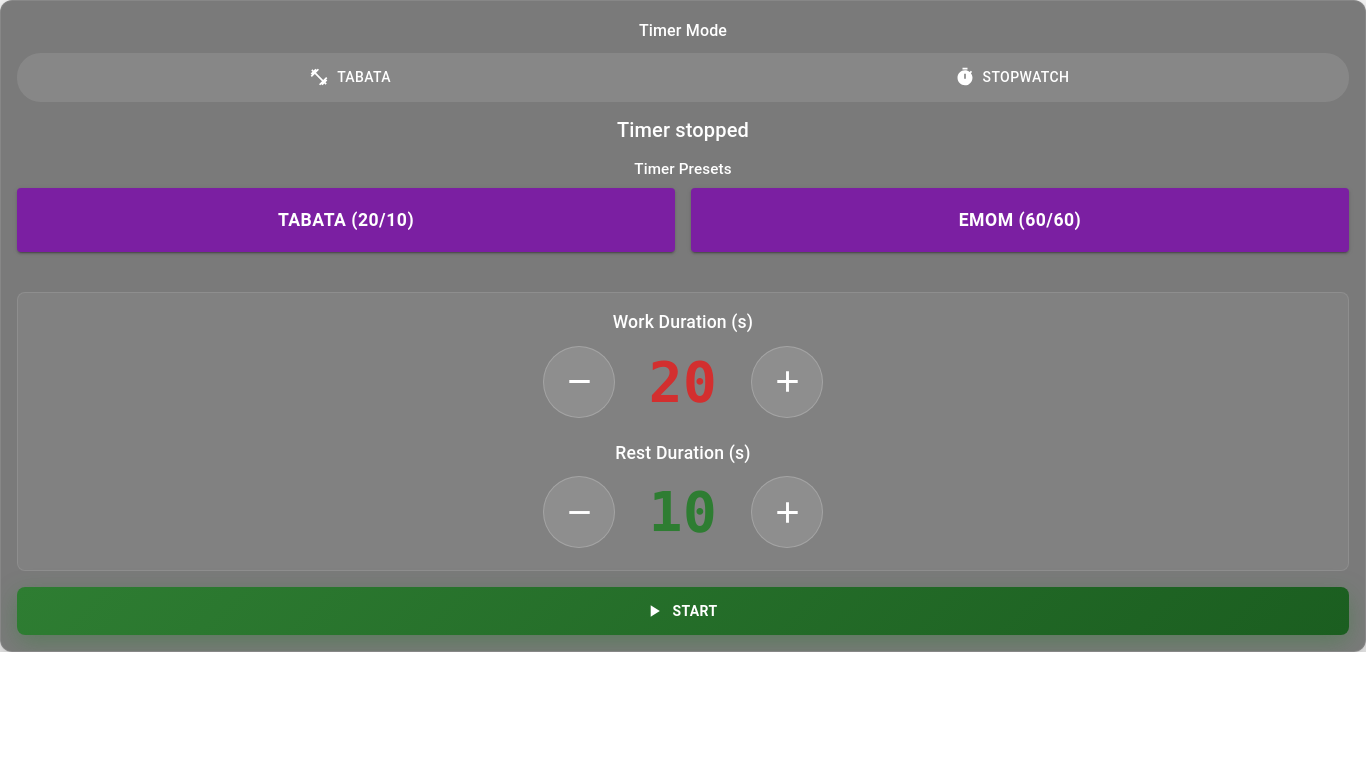
Test case: TimerControls › optimistically updates UI to "running" when start is clicked and dispatches Spotify NEXT
Step 1. Click the button with test id "start-timer-button" → x=683, y=611, box [17,587,1349,635]
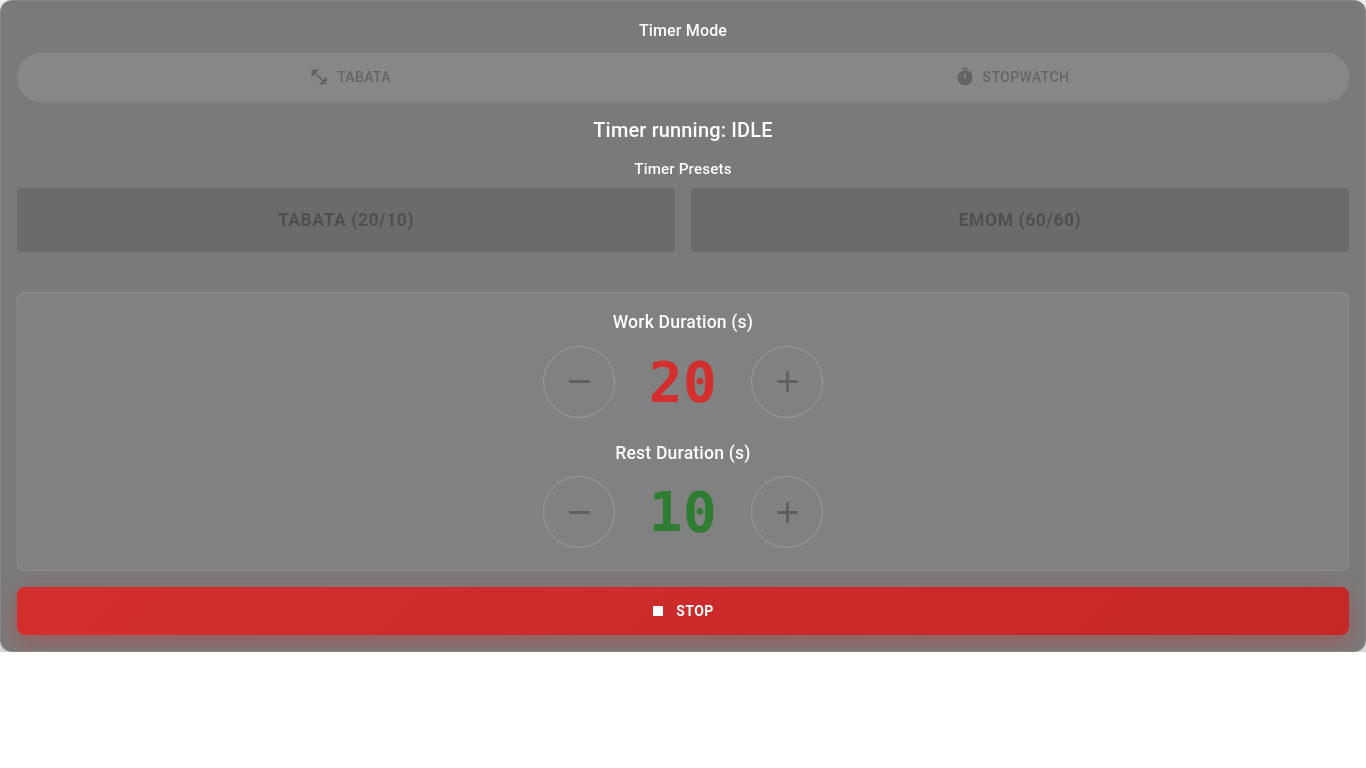
Check: the heading "Timer running: IDLE" is shown, box [593,118,773,142]
